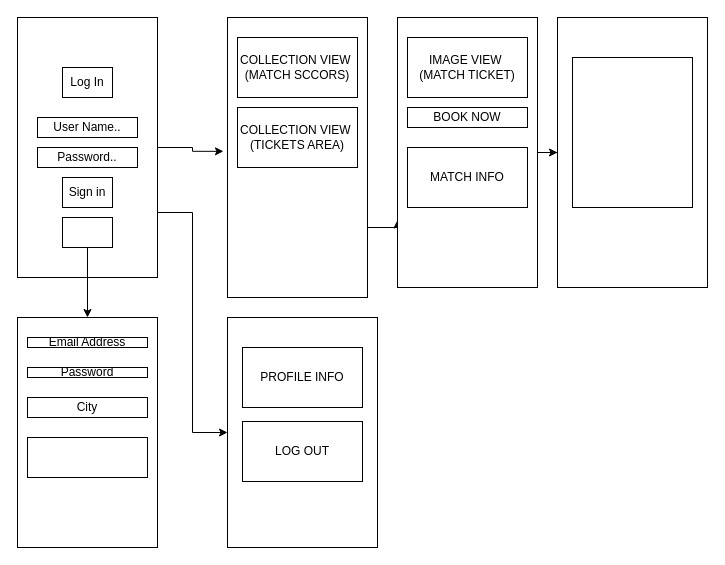
The diagram is 725 pixels wide and 565 high, and some of its shapes have lost their labels. The centre of each missing label's shape, as x and y in pixels:
CREATE NEW ACCOUNT: the point at 87,457
PAYMENT METHOD: the point at 632,132
SignUp: the point at 87,232
